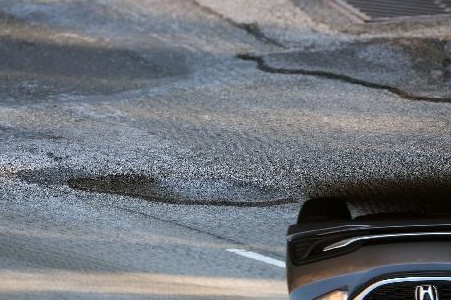pothole: (235, 35, 451, 106), (66, 169, 298, 210)
